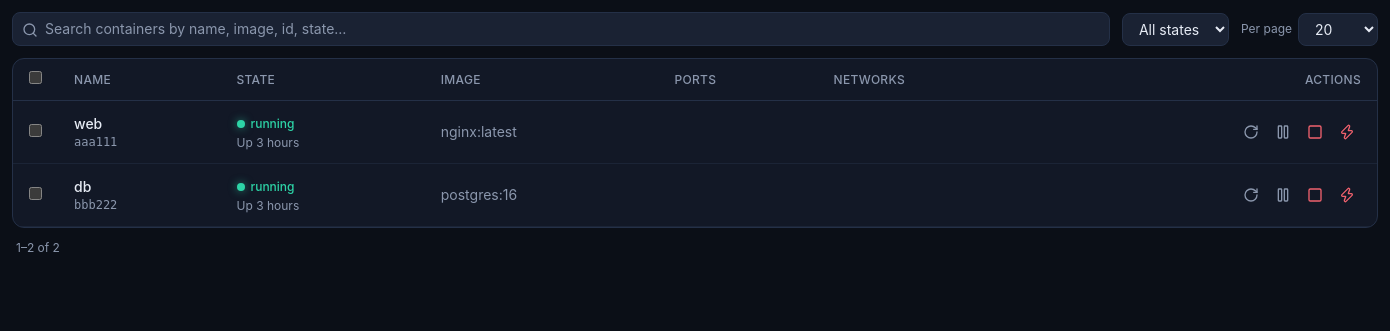
Test: selection and the bulk toolbar › select-all selects every visible row
What coordinates should you click on to do the following:
click the checkbox named "Select all containers"
I would click on:
 (36, 78)
Its box is [29, 71, 42, 84].
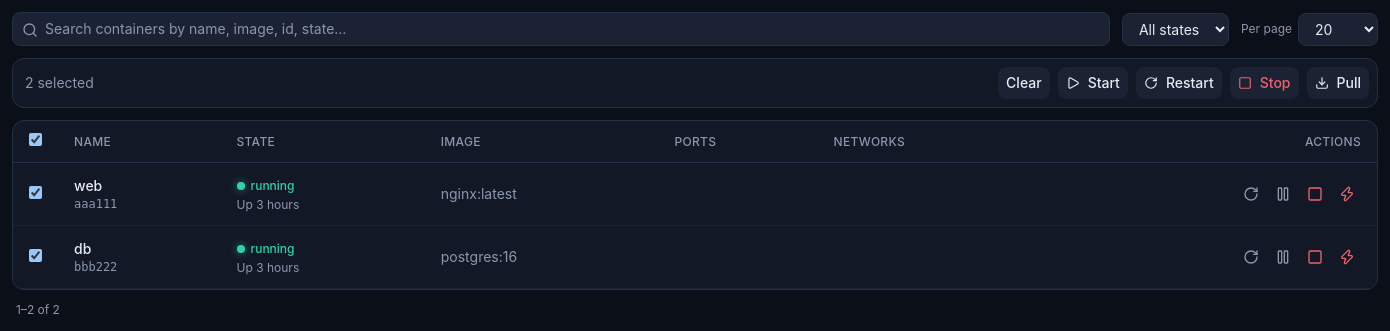
expect the text "2 selected" is shown: met, box [21, 73, 94, 93]
